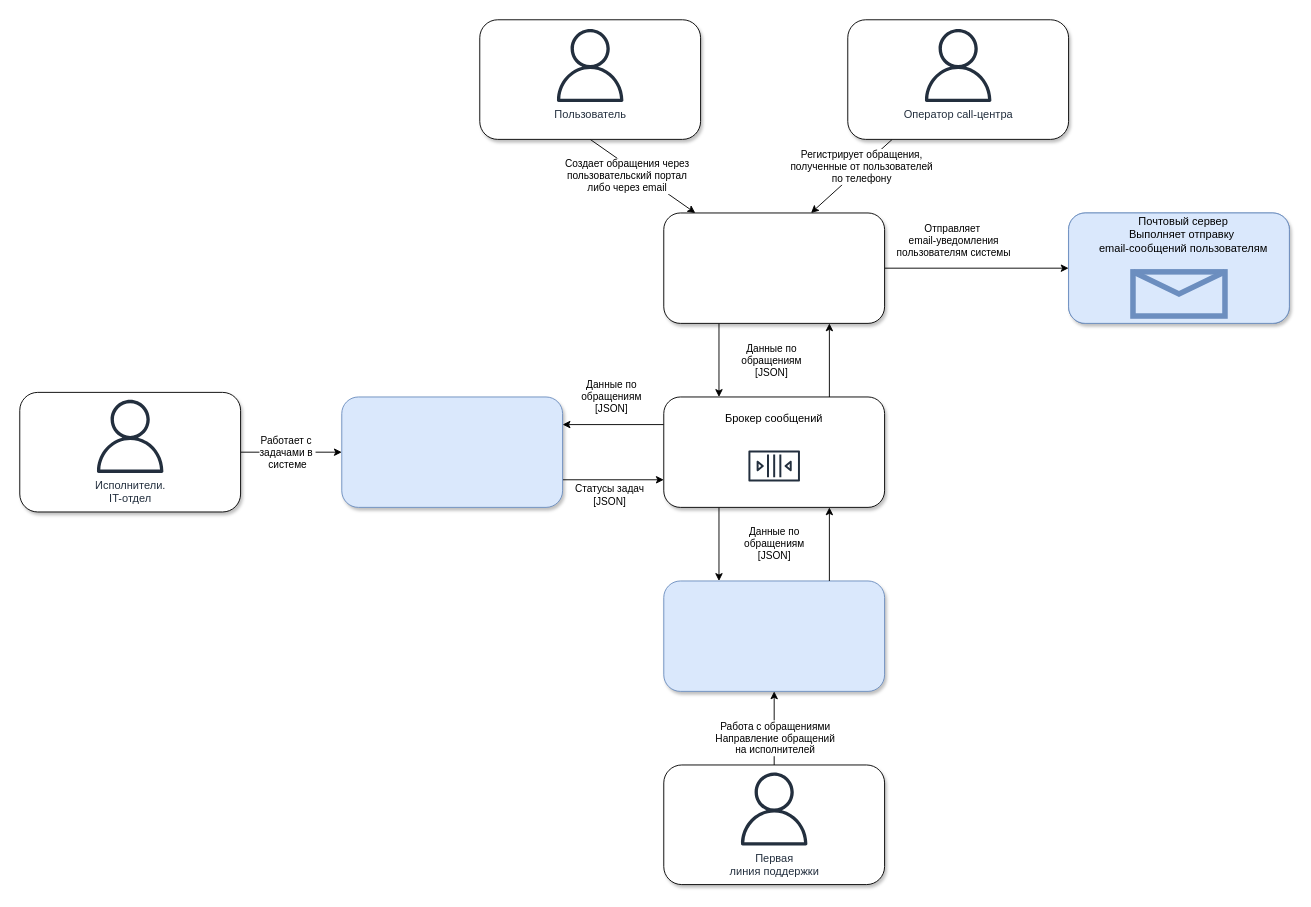
Image size: 1311x907. Some labels were removed from this diagram. Each missing label, with the centre of its shape:
"Call center Прием обращений от пользователей / клиентов" belongs at point 774,269.
"Service Desk" belongs at point 774,637.
"Система ведения задач Формирует задачи исполнителям на основе обращений" belongs at point 452,453.
